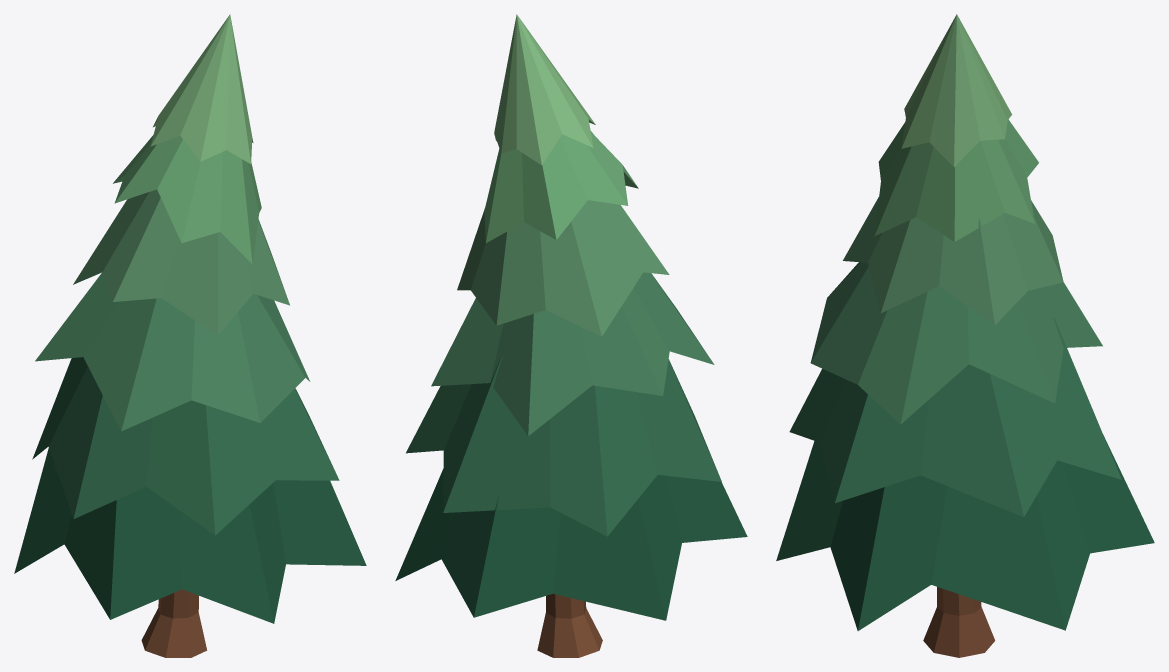
File: M_Tree_Vegetation_1.fbx
3 views of the same model, side by side, from view 1: azimuth 30°, elevation 25°; view 2: azimuth 150°, elevation 25°; view 3: azimuth 270°, elevation 25° (orthographic). The views are drawn at different scales.
Visible parts, largest first — view 1: M_Tree_Vegetation_1; view 2: M_Tree_Vegetation_1; view 3: M_Tree_Vegetation_1.
Boxes of the visible parts, x1=… form: M_Tree_Vegetation_1: x1=14, y1=14, x2=366, y2=657; M_Tree_Vegetation_1: x1=395, y1=14, x2=747, y2=657; M_Tree_Vegetation_1: x1=776, y1=14, x2=1154, y2=657.
Bounding box in the file's own units: 177 × 384 × 201.
